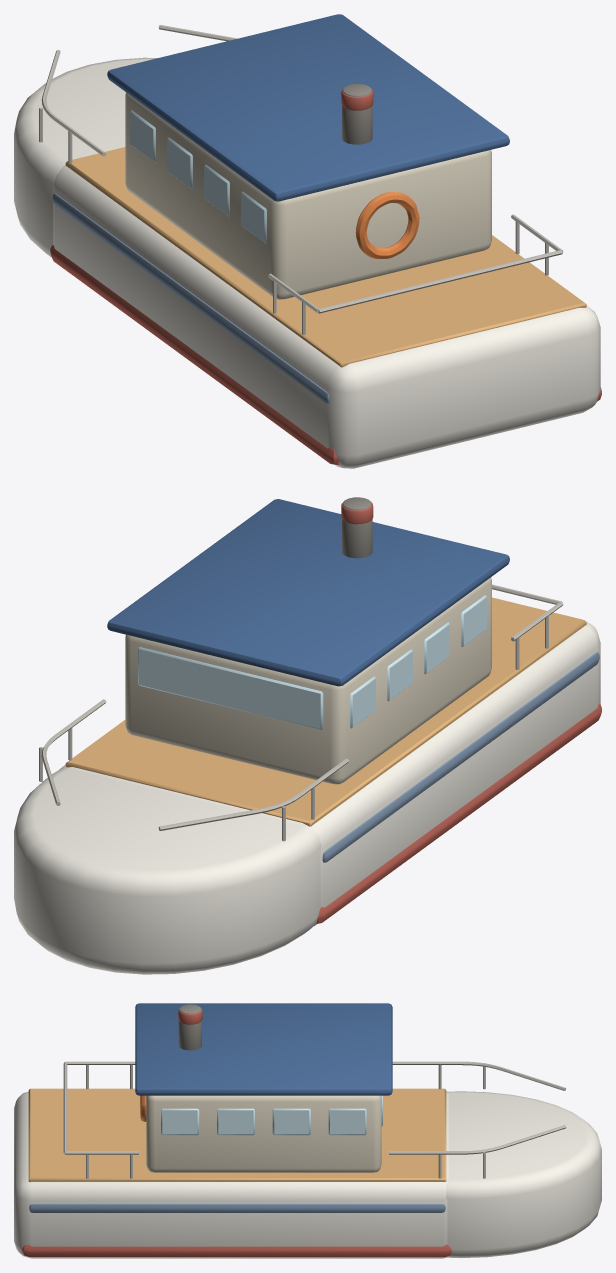
Rendered from ferry.glb.
3 renders of one model, top to bottom at view 1: azimuth 30°, elevation 25°; view 2: azimuth 150°, elevation 25°; view 3: azimuth 270°, elevation 25°, orthographic. The views are drawn at different scales.
Parts seen in each view (by area): view 1: lorry, sign_blue, cream, pine, car_red, steel, glass, blue_stripe, uniform, steel_dark; view 2: lorry, sign_blue, cream, pine, glass, car_red, blue_stripe, steel, steel_dark; view 3: lorry, sign_blue, pine, cream, car_red, glass, blue_stripe, steel, steel_dark.
Boxes of the visible parts, x1,y1,x2,y2 form: lorry: (14, 57, 600, 468); sign_blue: (107, 14, 509, 201); cream: (125, 92, 491, 299); pine: (65, 147, 586, 367); car_red: (50, 88, 601, 464); steel: (39, 25, 563, 334); glass: (130, 110, 266, 243); blue_stripe: (52, 193, 329, 403); uniform: (355, 192, 419, 258); steel_dark: (342, 83, 372, 144); lorry: (14, 598, 600, 974); sign_blue: (107, 499, 509, 686); cream: (125, 577, 491, 784); pine: (65, 597, 586, 826); glass: (138, 595, 486, 729); car_red: (316, 501, 601, 923); blue_stripe: (322, 652, 599, 862); steel: (39, 584, 563, 841); steel_dark: (342, 497, 372, 558); lorry: (14, 1091, 601, 1258); sign_blue: (135, 1003, 392, 1095); pine: (28, 1088, 446, 1182); cream: (146, 1095, 381, 1172); car_red: (22, 1008, 451, 1256); glass: (161, 1095, 382, 1135); blue_stripe: (29, 1204, 445, 1212); steel: (63, 1061, 566, 1178); steel_dark: (178, 1004, 201, 1050).
Bounding box in the file's own units: 1.63 × 1.55 × 4.
